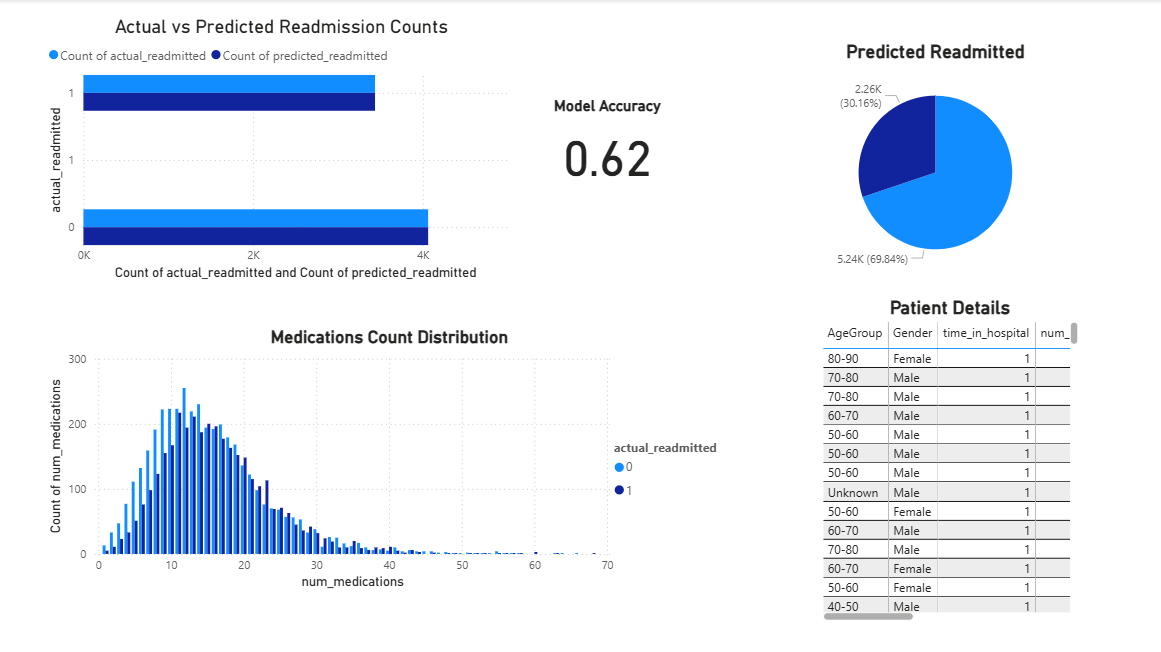

The dashboard page shown, as its layout file describes it:
{"tool":"powerbi","page":{"name":"Page 1","canvas":[1280,720],"ordinal":0},"visuals":[{"type":"pieChart","title":"Predicted Readmitted ","fields":{"Category":["hospital_predictions.predicted_readmitted"],"Y":["CountNonNull(hospital_predictions.predicted_readmitted)"]},"box":[866.8,45.3,322.8,267.9],"z":0},{"type":"card","title":"Model Accuracy","fields":{"Values":["hospital_predictions.Model_Accuracy"]},"box":[527.4,107.6,280.2,103],"z":0,"group":"g1"},{"type":"clusteredBarChart","title":"Actual vs Predicted Readmission Counts","fields":{"Category":["hospital_predictions.actual_readmitted"],"Y":["CountNonNull(hospital_predictions.actual_readmitted)","CountNonNull(hospital_predictions.predicted_readmitted)"]},"box":[48.1,17.9,522,295.3],"z":1000,"group":"g1"},{"type":"clusteredColumnChart","title":"Medications Count Distribution","fields":{"Category":["hospital_predictions.num_medications"],"Y":["CountNonNull(hospital_predictions.num_medications)"],"Series":["hospital_predictions.actual_readmitted"]},"box":[48.1,359.9,759.7,294],"z":1000},{"type":"tableEx","title":"Patient Details","fields":{"Values":["hospital_predictions.AgeGroup","hospital_predictions.Gender","hospital_predictions.time_in_hospital","hospital_predictions.num_medications","hospital_predictions.num_lab_procedures","hospital_predictions.predicted_readmitted","hospital_predictions.actual_readmitted"]},"box":[898.4,326.9,291.2,361.3],"z":2000},{"type":"group","id":"g1","title":"Group 1","box":[48.1,17.9,759.5,295.3],"z":3000}]}

Visuals, with their boxes in screenshot pixels (x1, y1, x2, y2), scaled from the page's 1280x720 canvas onto the 1161x652 screenshot:
"Predicted Readmitted " pieChart: bbox(786, 41, 1079, 284)
"Model Accuracy" card: bbox(478, 97, 733, 191)
"Actual vs Predicted Readmission Counts" clusteredBarChart: bbox(44, 16, 517, 284)
"Medications Count Distribution" clusteredColumnChart: bbox(44, 326, 733, 592)
"Patient Details" tableEx: bbox(815, 296, 1079, 623)
"Group 1" group: bbox(44, 16, 733, 284)
